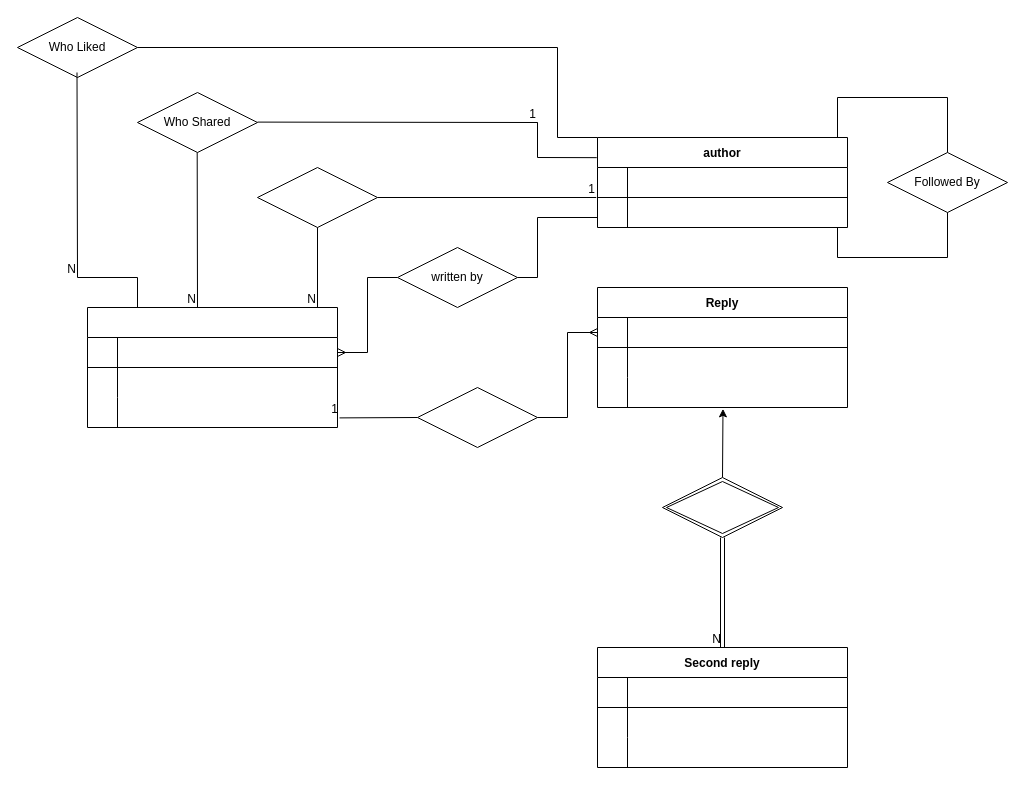
Some shapes in this 1025 by 785 pixel diagram are drawn without their labels. Each missing label, with the centre of its shape:
"post" goes at (212,367).
"relevant reply" goes at (477,417).
"Reply for First reply" goes at (722,507).
"Who Favorited" goes at (317,197).
